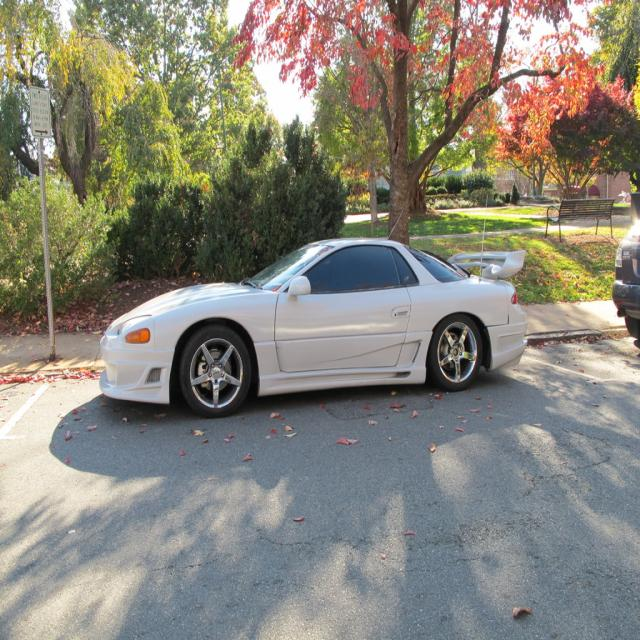car: (96, 195, 528, 419)
